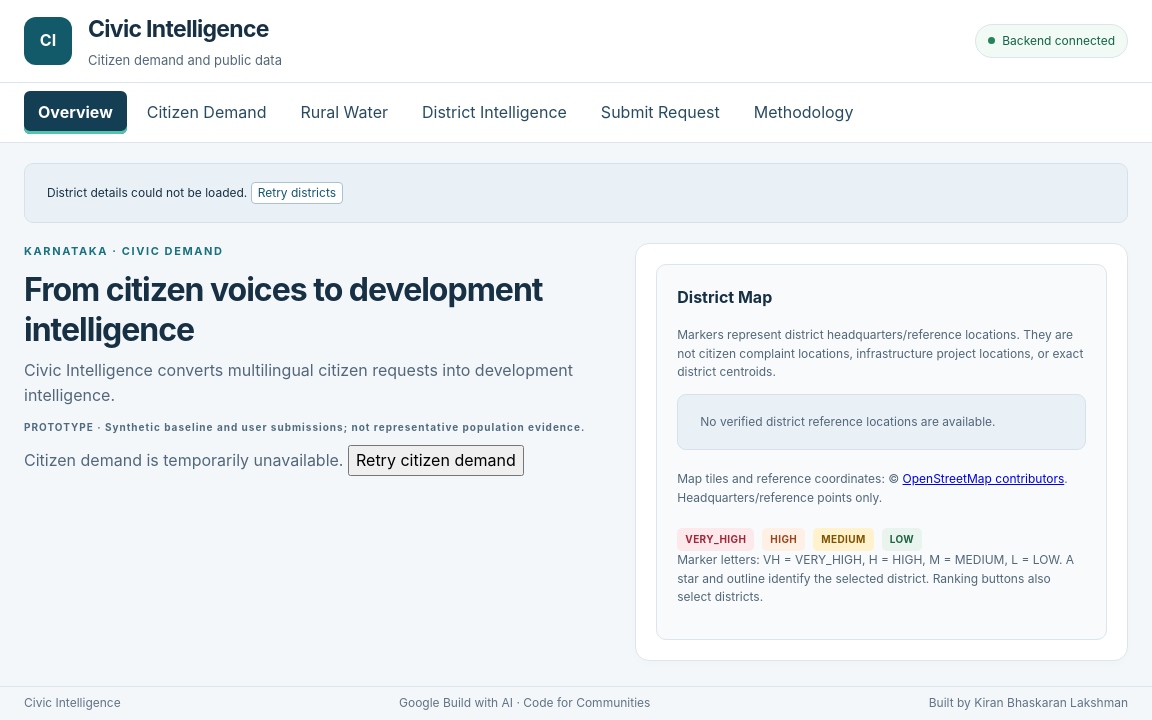
Scenario: District Intelligence › isolates /districts failure
This screenshot has width=1152, height=720.
Check: the heading "From citizen voices to development intelligence" is shown, box [24, 270, 615, 350]
Click the tab "Rural Water".
click(344, 112)  # box [286, 91, 402, 134]
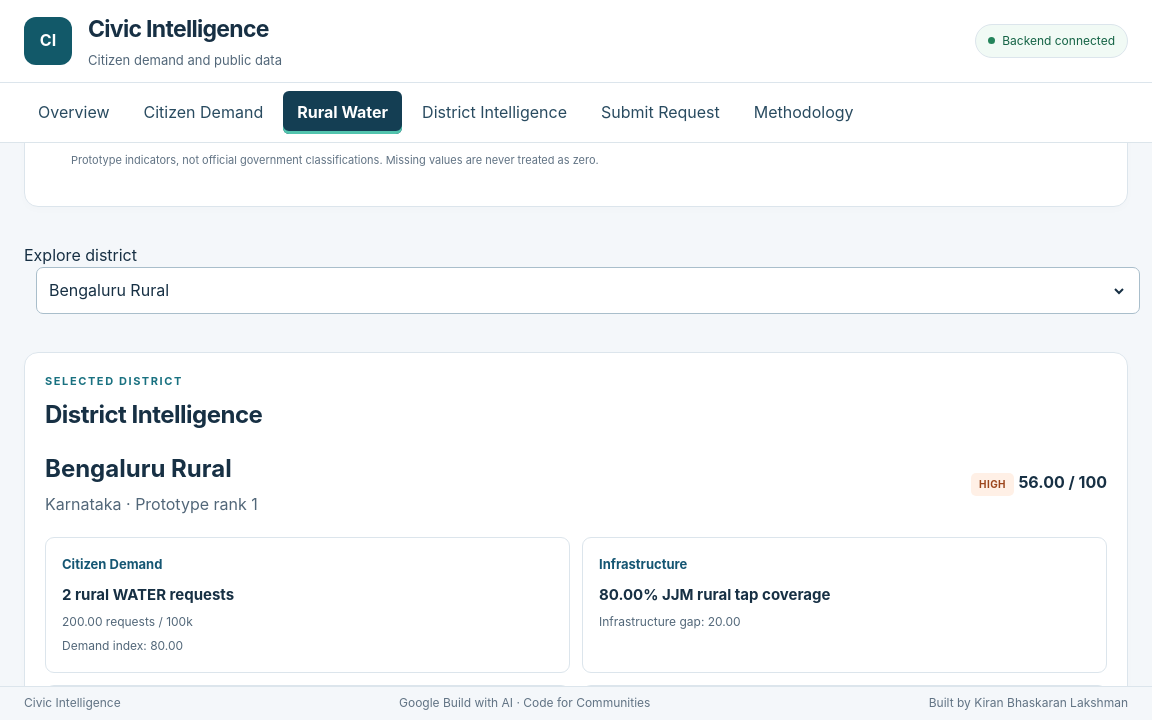
Check: the heading "District Intelligence" is shown, box [45, 400, 262, 429]
